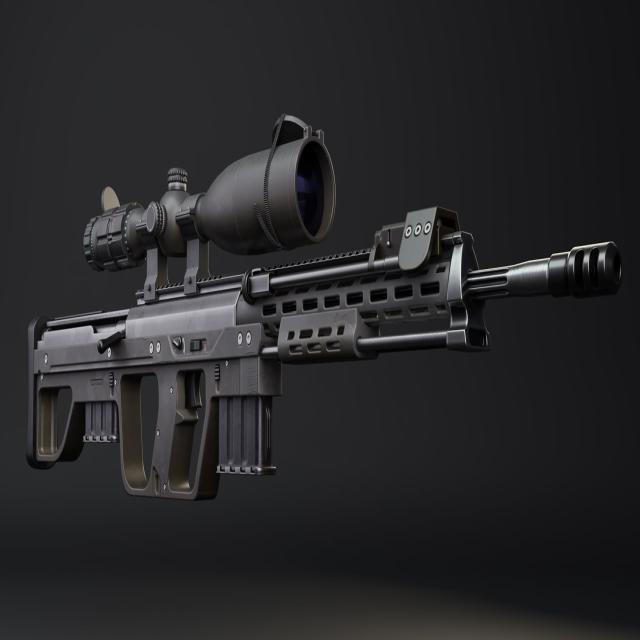Rifle: (26, 114, 624, 504)
